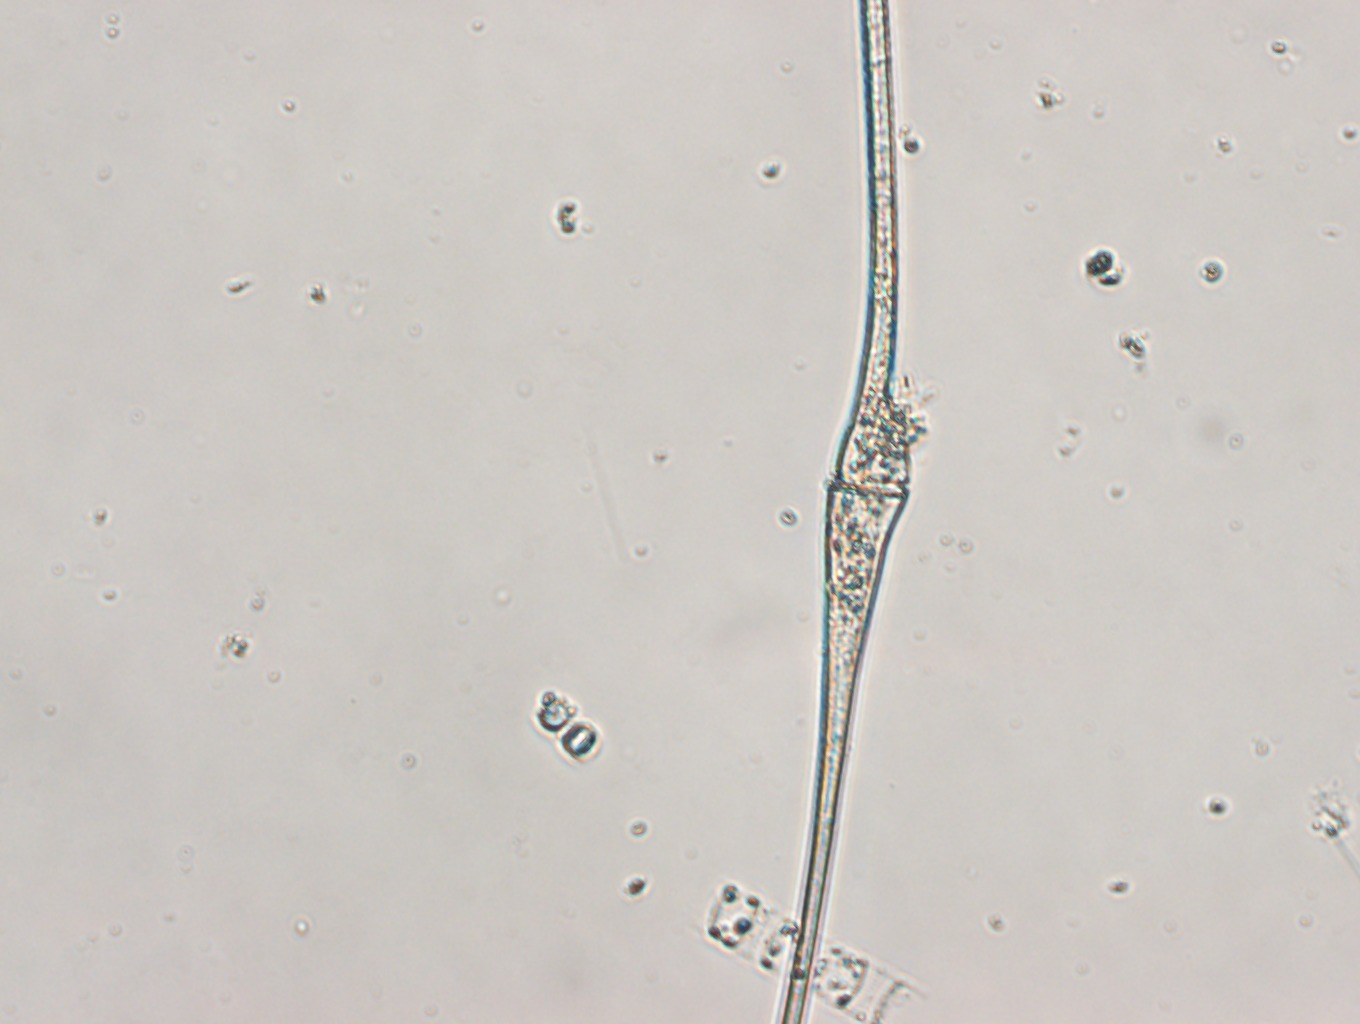ceratium fusus: (773, 1, 918, 1024)
skeletonema: (696, 885, 925, 1024)
